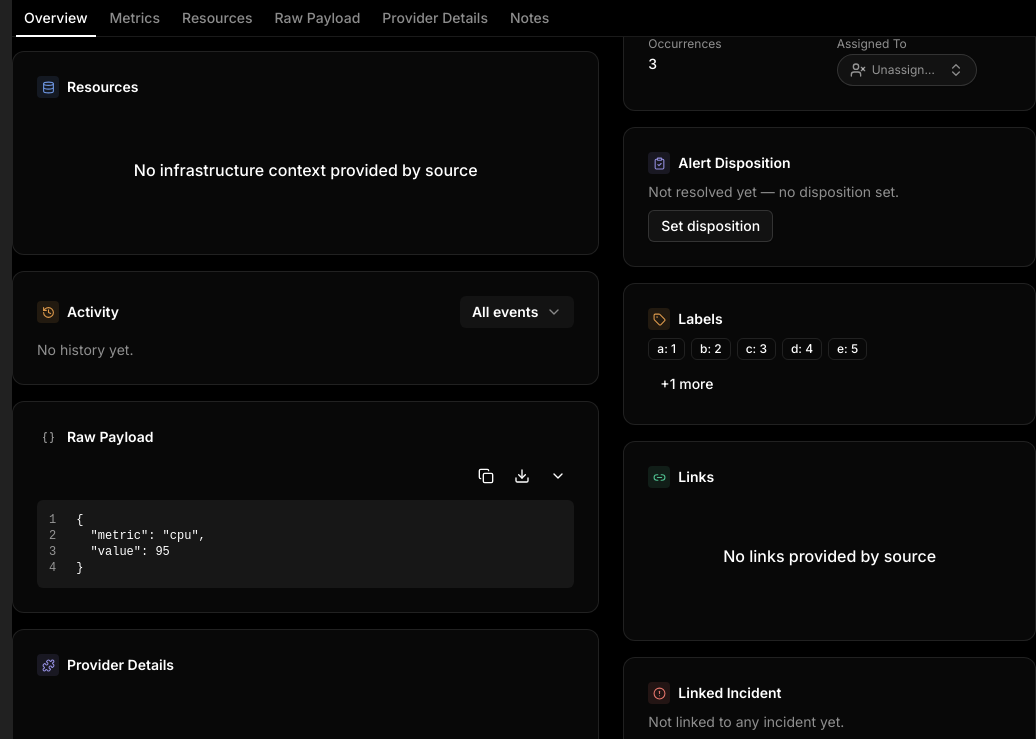
AlertDetailPage — labels › shows up to 5 labels and a "+N more" toggle beyond that
This screenshot has width=1036, height=739.
(page scrolled)
Click the button "+1 more": (687, 384) [648, 368, 726, 400]
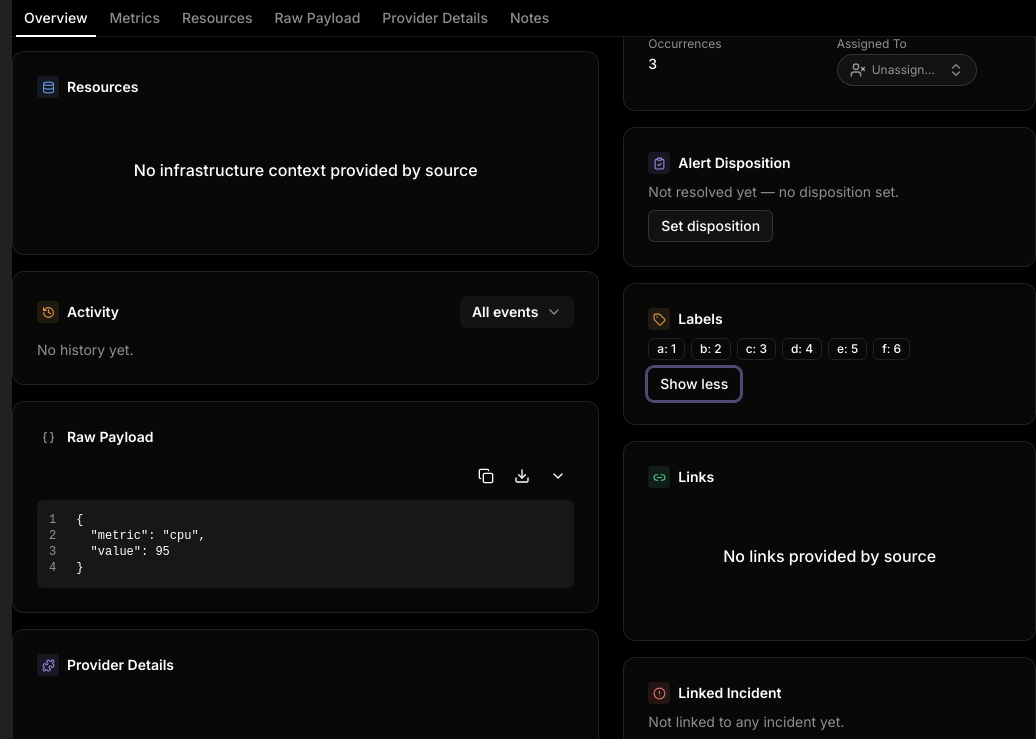
Check: the text "f: 6" is shown, box [873, 338, 910, 360]
Click the button "Show less": (694, 384) [648, 368, 740, 400]
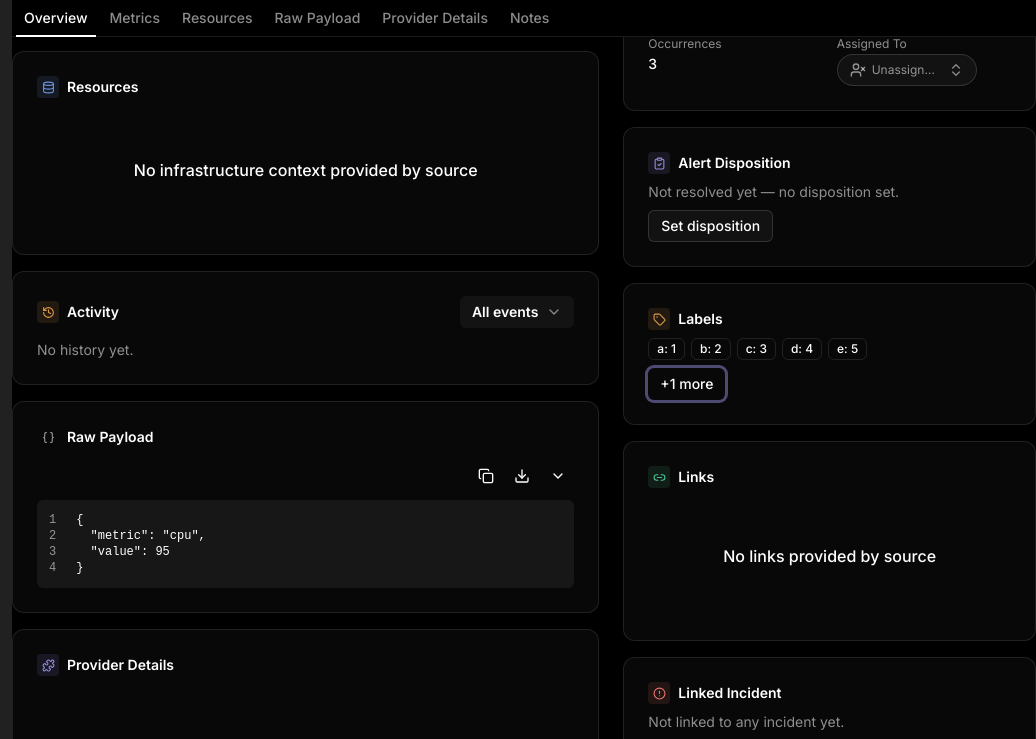
Check: the text "f: 6" is gone
